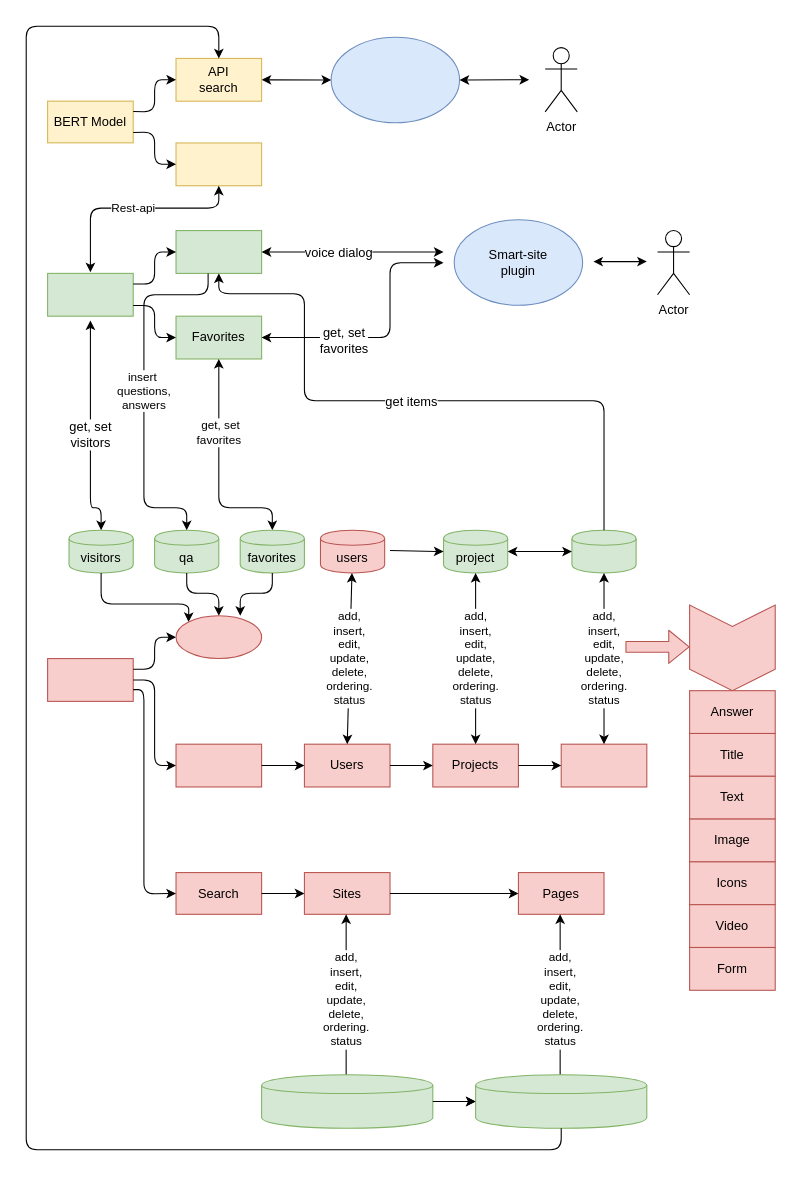
This 794x1177 diagram has some shape labels left out. The centre of each missing label's shape, as x and y in pixels:
"API smart-site" goes at pixel 218 164.
"com_search_pages" goes at pixel 561 1101.
"com_search_sites" goes at pixel 347 1101.
"Dialog" goes at pixel 218 251.
"Edit" goes at pixel 732 647.
"items" goes at pixel 603 551.
"Site search plugin" goes at pixel 395 79.
"Smar-site" goes at pixel 90 294.
"Smart-site" goes at pixel 218 765.
"Statistics" goes at pixel 218 637.
"Topics" goes at pixel 603 765.
"Аdmin" goes at pixel 90 679.
